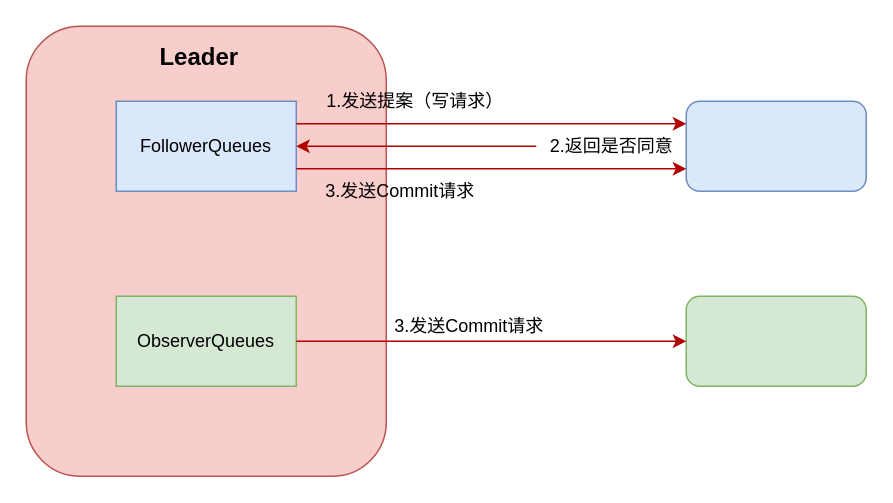
Some shapes in this 893 by 503 pixel diagram are drawn without their labels. The box of each missing label's shape, as (x1, y1, x2, y2) in pixels:
Followers: (685, 100, 866, 191)
Observers: (685, 295, 866, 386)
